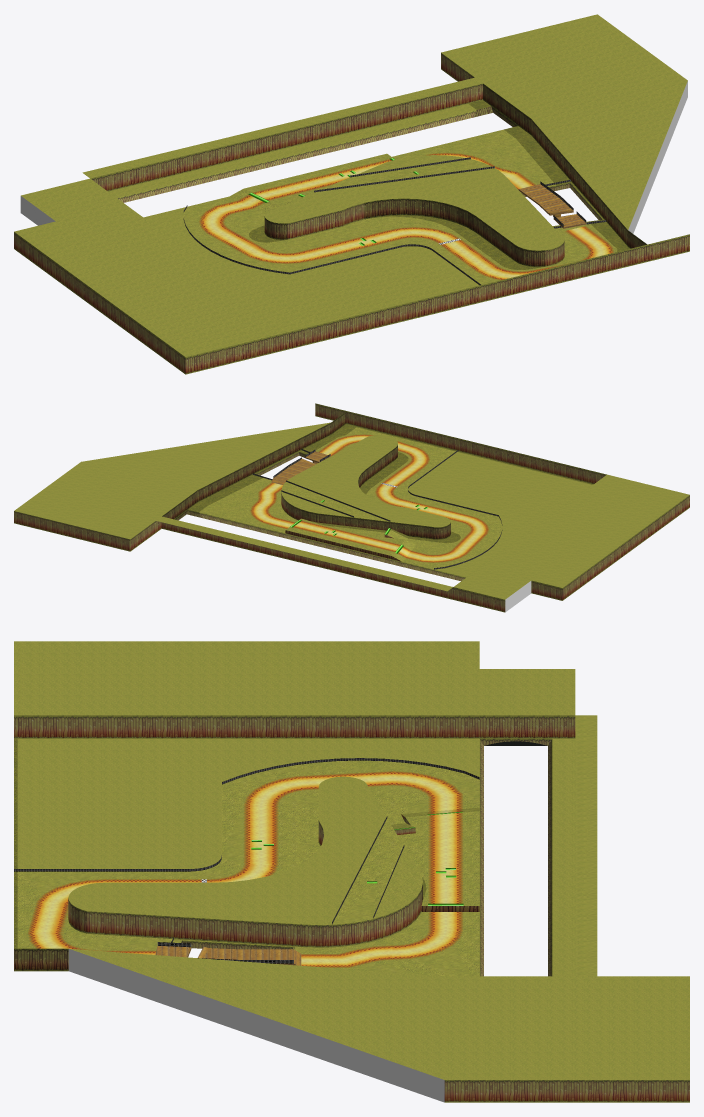
3 renders of one model, top to bottom at view 1: azimuth 30°, elevation 25°; view 2: azimuth 150°, elevation 25°; view 3: azimuth 270°, elevation 25°, orthographic. The views are drawn at different scales.
Visible parts, largest first — view 1: Autmnlv-SKP--Solidfall, Autmnlv-SKP--RockWall, Autmnlv-SKP--Offroad, Autmnlv-SKP--Road, Autmnlv-SKP--Groundcover_Sand_Smooth, Autmnlv-SKP--Carpet_Pattern_LeafSquares_Tan, Autmnlv-SKP--Fence, Autmnlv-SKP--Default_Material, Autmnlv-SKP--holz; view 2: Autmnlv-SKP--Solidfall, Autmnlv-SKP--RockWall, Autmnlv-SKP--Offroad, Autmnlv-SKP--Road, Autmnlv-SKP--Groundcover_Sand_Smooth, Autmnlv-SKP--Carpet_Pattern_LeafSquares_Tan, Autmnlv-SKP--Fence, Autmnlv-SKP--holz, Autmnlv-SKP--Default_Material; view 3: Autmnlv-SKP--Solidfall, Autmnlv-SKP--RockWall, Autmnlv-SKP--Offroad, Autmnlv-SKP--Road, Autmnlv-SKP--Default_Material, Autmnlv-SKP--Fence, Autmnlv-SKP--Groundcover_Sand_Smooth, Autmnlv-SKP--holz, Autmnlv-SKP--Carpet_Pattern_LeafSquares_Tan.
Part boxes in pixels (x1,y1,x2,y2): Autmnlv-SKP--Solidfall: (14,14,687,357); Autmnlv-SKP--RockWall: (14,53,689,374); Autmnlv-SKP--Offroad: (183,129,617,284); Autmnlv-SKP--Road: (198,152,614,280); Autmnlv-SKP--Groundcover_Sand_Smooth: (264,83,646,267); Autmnlv-SKP--Carpet_Pattern_LeafSquares_Tan: (249,100,629,269); Autmnlv-SKP--Fence: (183,157,606,285); Autmnlv-SKP--Default_Material: (20,81,687,233); Autmnlv-SKP--holz: (518,184,586,228); Autmnlv-SKP--Solidfall: (14,422,689,599); Autmnlv-SKP--RockWall: (14,403,689,612); Autmnlv-SKP--Offroad: (199,427,502,569); Autmnlv-SKP--Road: (250,434,489,562); Autmnlv-SKP--Groundcover_Sand_Smooth: (162,412,450,561); Autmnlv-SKP--Carpet_Pattern_LeafSquares_Tan: (188,424,593,543); Autmnlv-SKP--Fence: (252,449,502,569); Autmnlv-SKP--holz: (271,451,330,484); Autmnlv-SKP--Default_Material: (505,581,531,611); Autmnlv-SKP--Solidfall: (14,641,689,1079); Autmnlv-SKP--RockWall: (14,715,689,1102); Autmnlv-SKP--Offroad: (17,760,479,976); Autmnlv-SKP--Road: (27,771,463,967); Autmnlv-SKP--Default_Material: (68,949,444,1102); Autmnlv-SKP--Fence: (14,758,479,963); Autmnlv-SKP--Groundcover_Sand_Smooth: (14,814,479,971); Autmnlv-SKP--holz: (155,946,301,965); Autmnlv-SKP--Carpet_Pattern_LeafSquares_Tan: (14,738,426,948).
Size of the model in its own units: 111066 by 3818 by 72502.
Materials: 12 (11 with a texture image).
